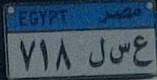1: (37, 36, 52, 73)
7: (17, 36, 37, 70)
8: (54, 37, 73, 73)
ain: (131, 33, 152, 69)
laam: (87, 36, 105, 69)
seen: (107, 39, 131, 66)
